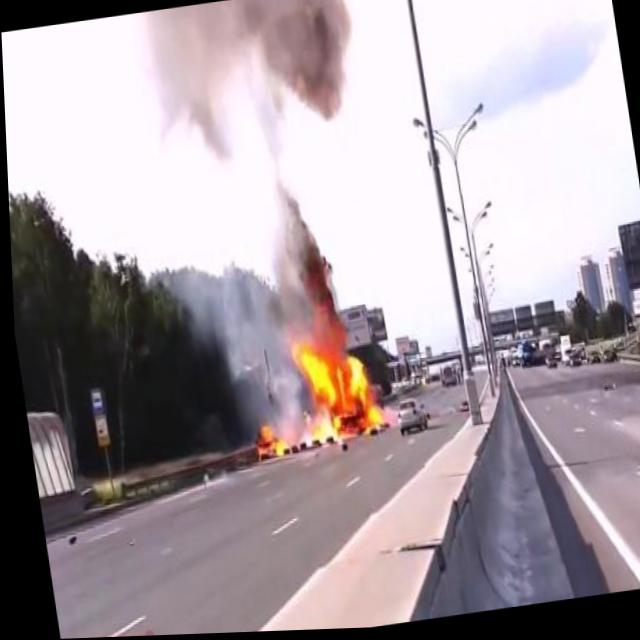fire: (280, 318, 387, 454), (242, 417, 287, 466)
